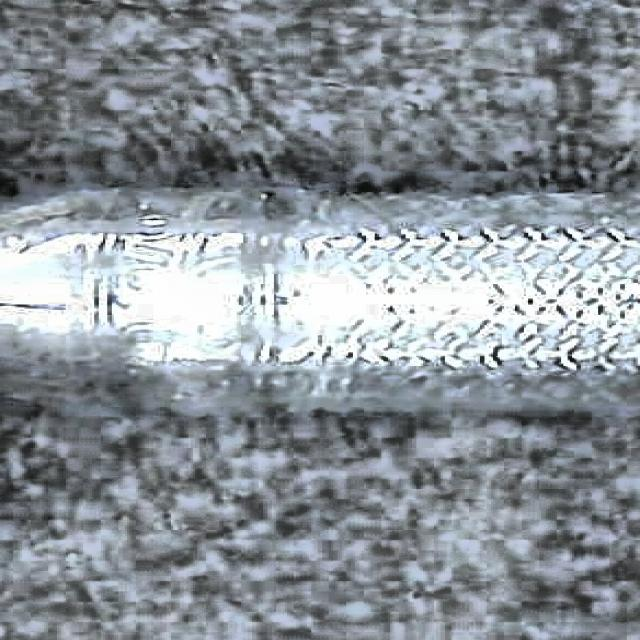plastic: (0, 179, 640, 429)
